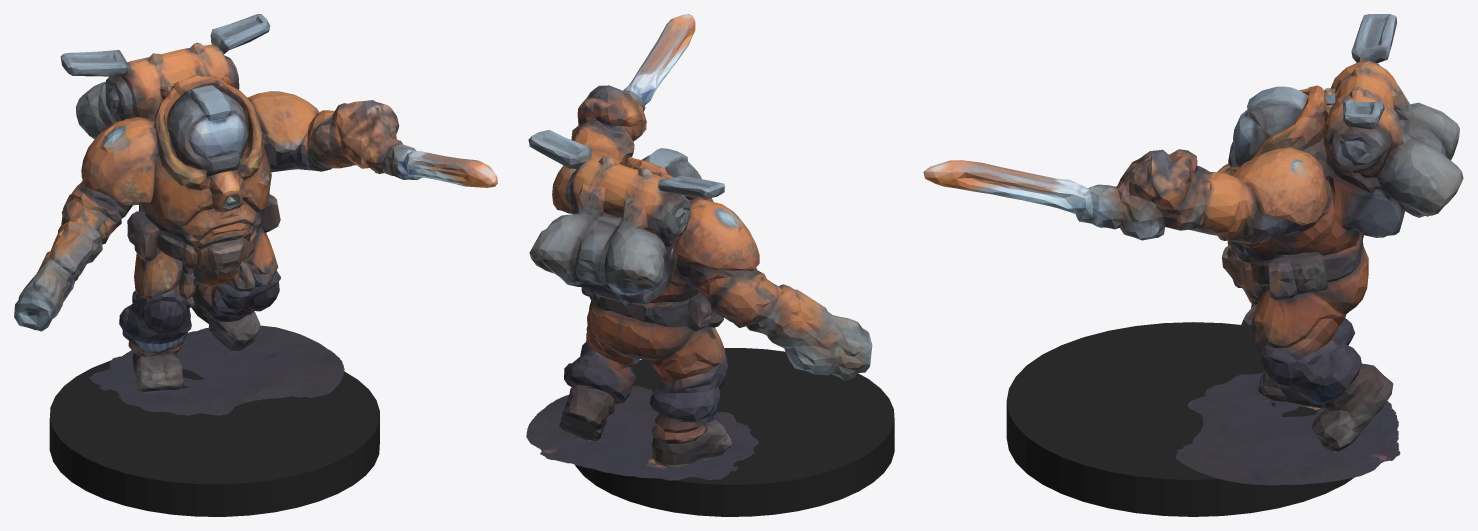
The model's file is hk-jump-pack-warrior.glb.
The picture shows the model from 3 angles, left to right: view 1: azimuth 30°, elevation 25°; view 2: azimuth 150°, elevation 25°; view 3: azimuth 270°, elevation 25°; orthographic projection. The views are drawn at different scales.
Visible parts, largest first — view 1: figure, base; view 2: figure, base; view 3: figure, base.
Boxes of the visible parts, bbox=[...] form: figure: bbox=[14, 14, 497, 415]; base: bbox=[49, 360, 379, 516]; figure: bbox=[526, 14, 872, 480]; base: bbox=[575, 348, 894, 516]; figure: bbox=[923, 14, 1463, 485]; base: bbox=[1006, 322, 1354, 516].
Size of the model in its own units: 1.31 by 1.27 by 1.59.
2 materials, 1 textured.
